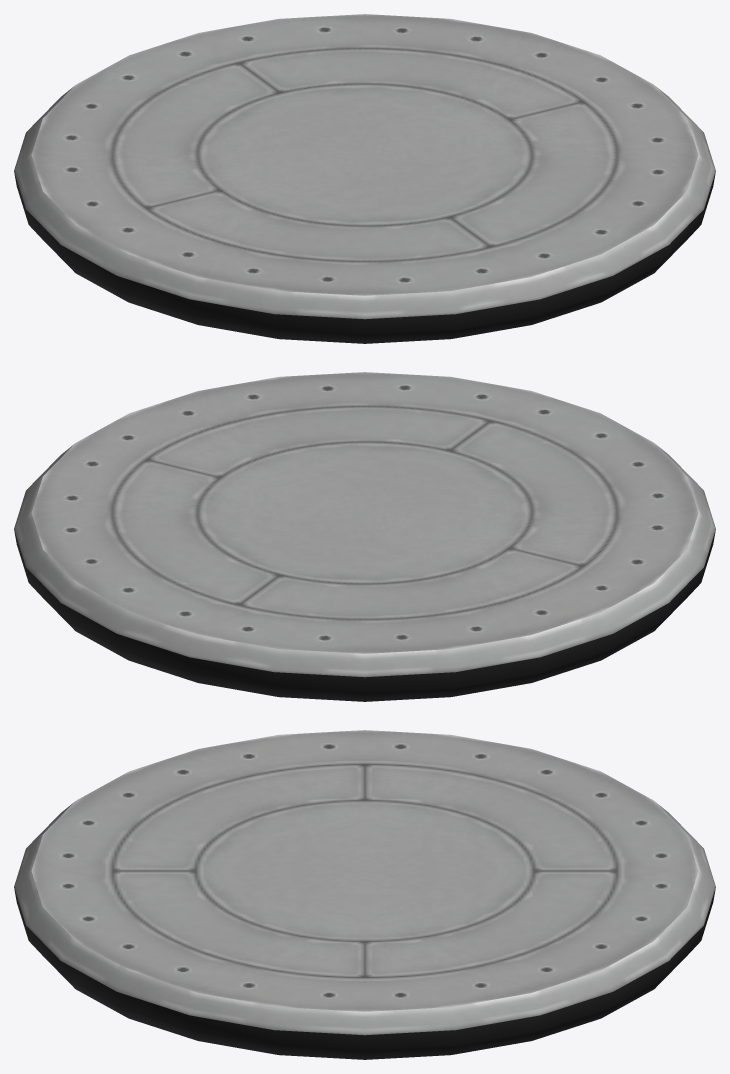
File: Tantares_Heatshield_1.obj
3 views of the same model, one above another, from view 1: azimuth 30°, elevation 25°; view 2: azimuth 150°, elevation 25°; view 3: azimuth 270°, elevation 25° (orthographic).
Parts seen in each view (by area): view 1: Tantares_Heatshield_1; view 2: Tantares_Heatshield_1; view 3: Tantares_Heatshield_1.
Boxes of the visible parts, x1=… form: Tantares_Heatshield_1: x1=14, y1=14, x2=715, y2=343; Tantares_Heatshield_1: x1=14, y1=372, x2=715, y2=701; Tantares_Heatshield_1: x1=14, y1=730, x2=715, y2=1059.
Size of the model in its own units: 1.25 by 0.1875 by 1.25.
